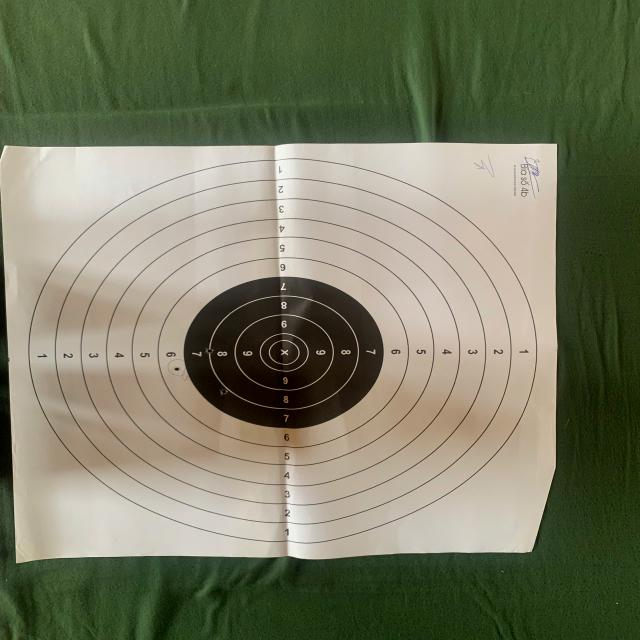bullet: (220, 388, 227, 397), (172, 368, 180, 372), (208, 348, 212, 354)
target: (12, 144, 558, 560)
